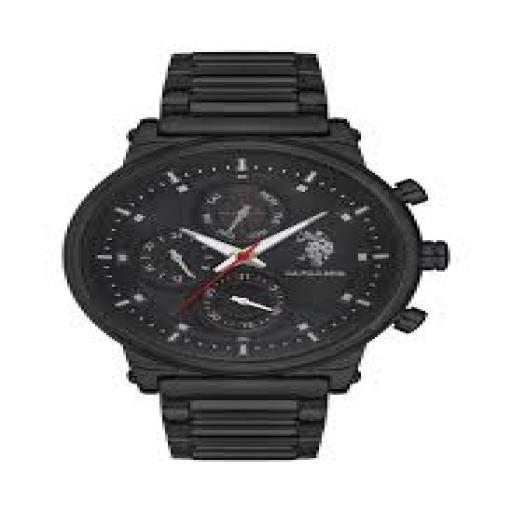KolSaati: (52, 24, 470, 487)
